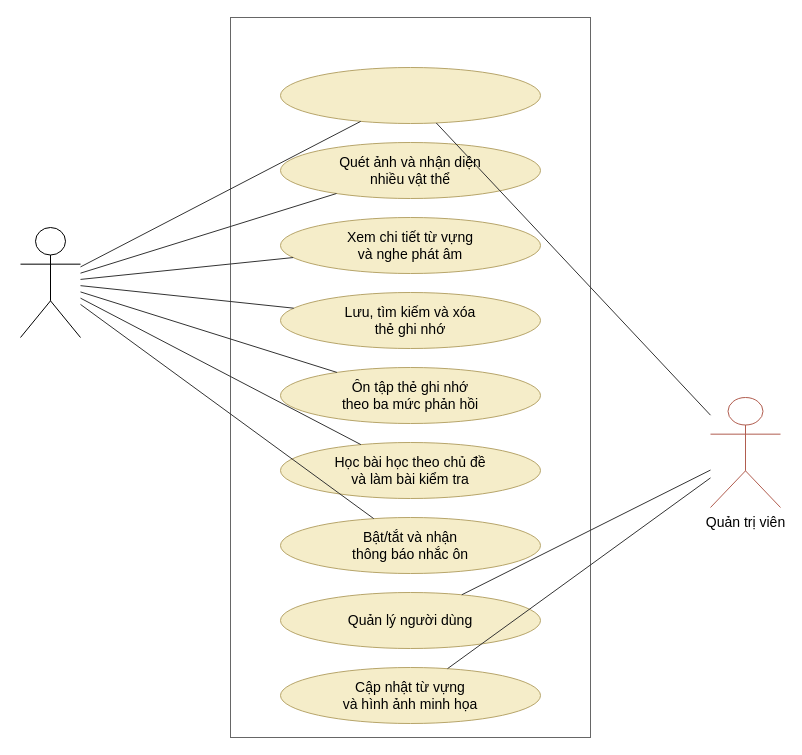
Some shapes in this 802 by 755 pixel diagram are drawn without their labels. The box of each missing label's shape, as (x1, y1, x2, y2) in pixels:
Người học: (20, 226, 80, 338)
Vocam: (230, 16, 590, 738)
Đăng ký, đăng nhập và khôi phục mật khẩu: (280, 66, 540, 124)
